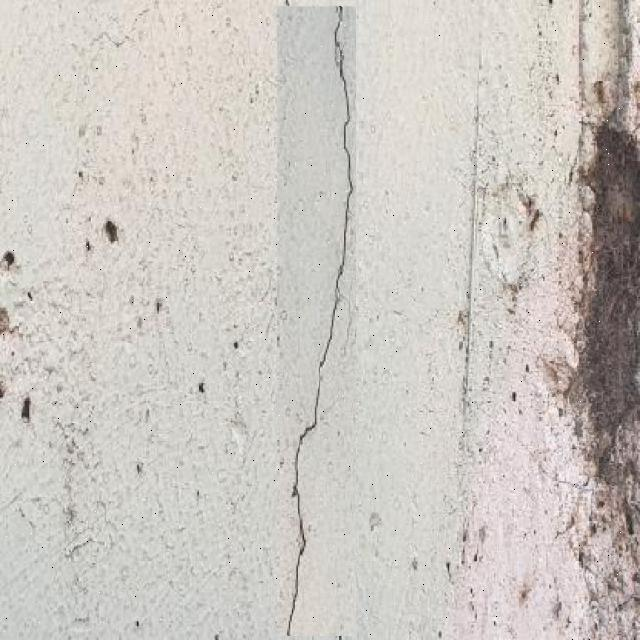corrosion: (112, 145, 263, 295), (86, 329, 222, 460), (576, 1, 630, 113), (76, 2, 163, 55), (605, 177, 637, 228), (1, 484, 35, 524), (498, 217, 511, 249), (529, 209, 541, 231)
crack: (456, 16, 577, 631), (279, 1, 355, 638), (38, 209, 107, 640), (65, 14, 151, 287), (452, 24, 491, 624), (286, 427, 311, 639), (333, 5, 348, 88)
dampness: (590, 112, 640, 611), (1, 249, 40, 415), (1, 251, 27, 321)
